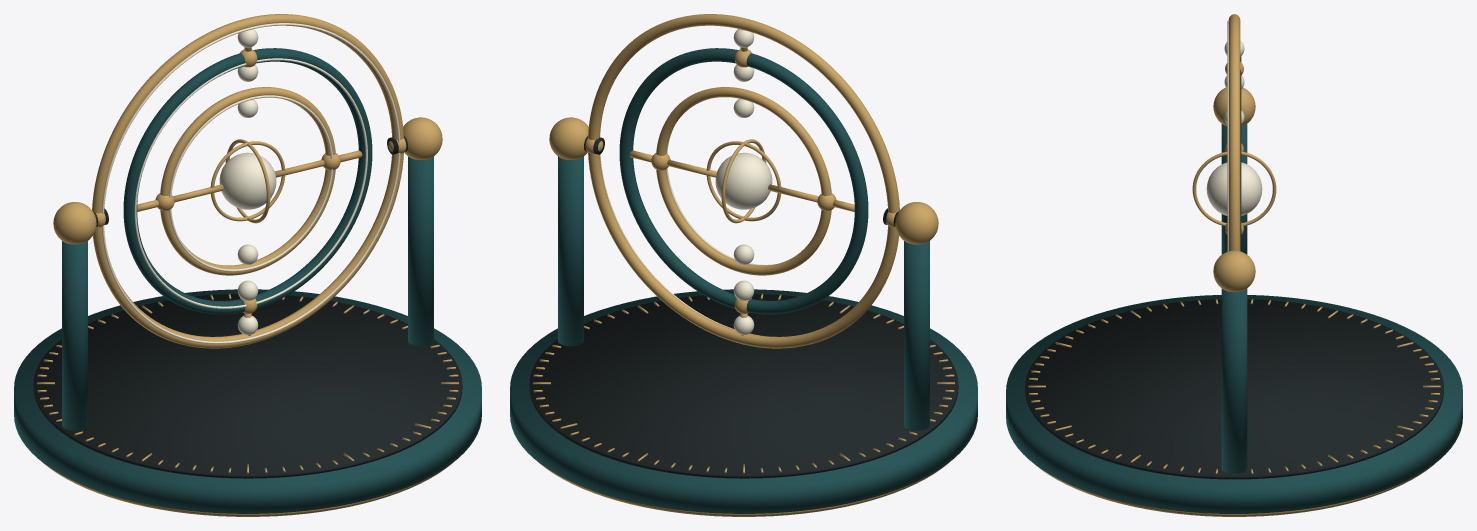
The model's file is orbital-loom-animated.glb.
The picture shows the model from 3 angles, left to right: view 1: azimuth 30°, elevation 25°; view 2: azimuth 150°, elevation 25°; view 3: azimuth 270°, elevation 25°; orthographic projection. The views are drawn at different scales.
Parts seen in each view (by area): view 1: Inset precision dial, Floating plinth / petrol, Precision hoop 0, Precision hoop 1, Pedestal bearing support, Pedestal bearing support.001, Precision hoop 2, Hoop ivory inlay 0, Porcelain heart, Hoop ivory inlay 1, Hoop ivory inlay 2, Polished spherical bearing (+4 smaller); view 2: Inset precision dial, Floating plinth / petrol, Precision hoop 0, Precision hoop 1, Precision hoop 2, Pedestal bearing support, Pedestal bearing support.001, Porcelain heart, Polished spherical bearing, Polished spherical bearing.001, Brass lower reveal, Heart cage.001 (+1 smaller); view 3: Inset precision dial, Floating plinth / petrol, Pedestal bearing support.001, Precision hoop 0, Porcelain heart, Polished spherical bearing.001, Brass lower reveal, Pedestal bearing support, Heart cage, Polished spherical bearing.
Boxes of the visible parts, bbox=[...] form: Inset precision dial: bbox=[33, 293, 462, 478]; Floating plinth / petrol: bbox=[14, 289, 481, 513]; Precision hoop 0: bbox=[92, 14, 403, 348]; Precision hoop 1: bbox=[123, 48, 372, 314]; Pedestal bearing support: bbox=[62, 241, 87, 430]; Pedestal bearing support.001: bbox=[408, 156, 433, 346]; Precision hoop 2: bbox=[160, 87, 335, 275]; Hoop ivory inlay 0: bbox=[101, 23, 400, 343]; Porcelain heart: bbox=[219, 152, 276, 209]; Hoop ivory inlay 1: bbox=[134, 58, 367, 308]; Hoop ivory inlay 2: bbox=[169, 95, 332, 271]; Polished spherical bearing: bbox=[53, 202, 96, 244]; Inset precision dial: bbox=[529, 293, 958, 478]; Floating plinth / petrol: bbox=[510, 289, 977, 513]; Precision hoop 0: bbox=[588, 14, 899, 348]; Precision hoop 1: bbox=[619, 48, 868, 314]; Precision hoop 2: bbox=[656, 87, 831, 275]; Pedestal bearing support: bbox=[904, 241, 929, 430]; Pedestal bearing support.001: bbox=[558, 156, 583, 346]; Porcelain heart: bbox=[715, 152, 772, 209]; Polished spherical bearing: bbox=[895, 202, 938, 244]; Polished spherical bearing.001: bbox=[549, 117, 588, 159]; Brass lower reveal: bbox=[537, 461, 950, 516]; Heart cage.001: bbox=[706, 141, 781, 221]; Inset precision dial: bbox=[1025, 299, 1443, 479]; Floating plinth / petrol: bbox=[1006, 295, 1462, 513]; Pedestal bearing support.001: bbox=[1221, 289, 1247, 473]; Precision hoop 0: bbox=[1228, 14, 1240, 251]; Porcelain heart: bbox=[1206, 162, 1262, 215]; Polished spherical bearing.001: bbox=[1213, 250, 1255, 292]; Brass lower reveal: bbox=[1034, 464, 1434, 516]; Pedestal bearing support: bbox=[1221, 124, 1247, 254]; Heart cage: bbox=[1192, 151, 1276, 226]; Polished spherical bearing: bbox=[1213, 87, 1255, 126].
Bounding box in the file's own units: 4.1 × 3.97 × 4.1.
